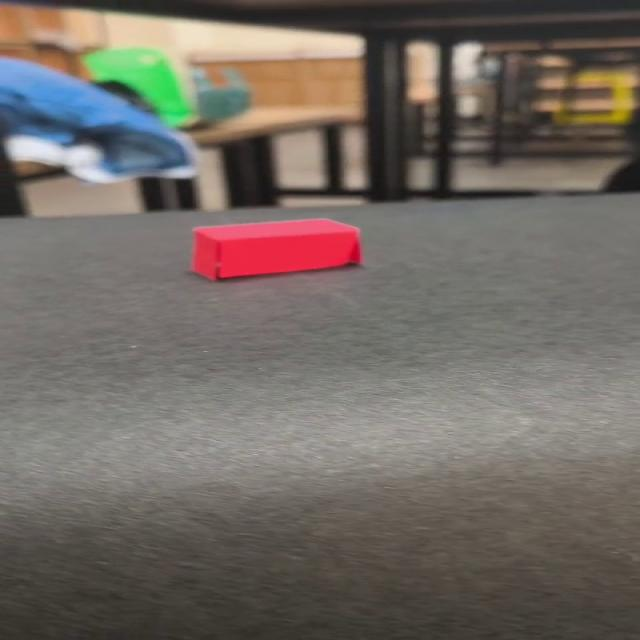red block: (190, 217, 362, 282)
